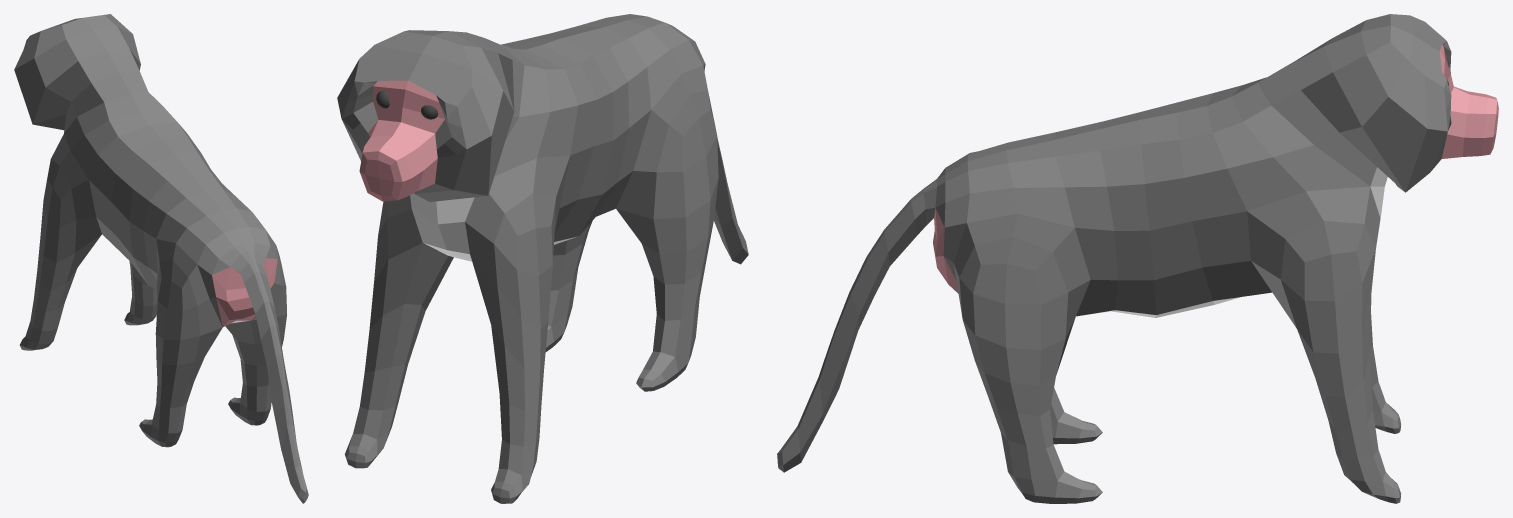
Rendered from baboon.fbx.
3 renders of one model, left to right at view 1: azimuth 30°, elevation 25°; view 2: azimuth 150°, elevation 25°; view 3: azimuth 270°, elevation 25°, orthographic. The views are drawn at different scales.
Visible parts, largest first — view 1: Cube; view 2: Cube; view 3: Cube.
Part boxes in pixels (bbox=[...]): Cube: bbox=[14, 14, 308, 503]; Cube: bbox=[337, 14, 748, 503]; Cube: bbox=[777, 14, 1498, 503].
Bounding box in the file's own units: 416 × 1034 × 1512.
